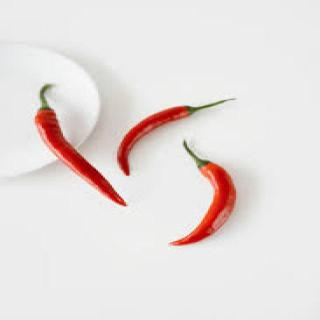Cabai Merah: (36, 86, 128, 209), (118, 98, 237, 176), (167, 143, 239, 247)
